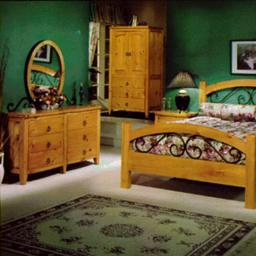Armario: (112, 24, 159, 119)
Cama: (119, 84, 255, 193)
